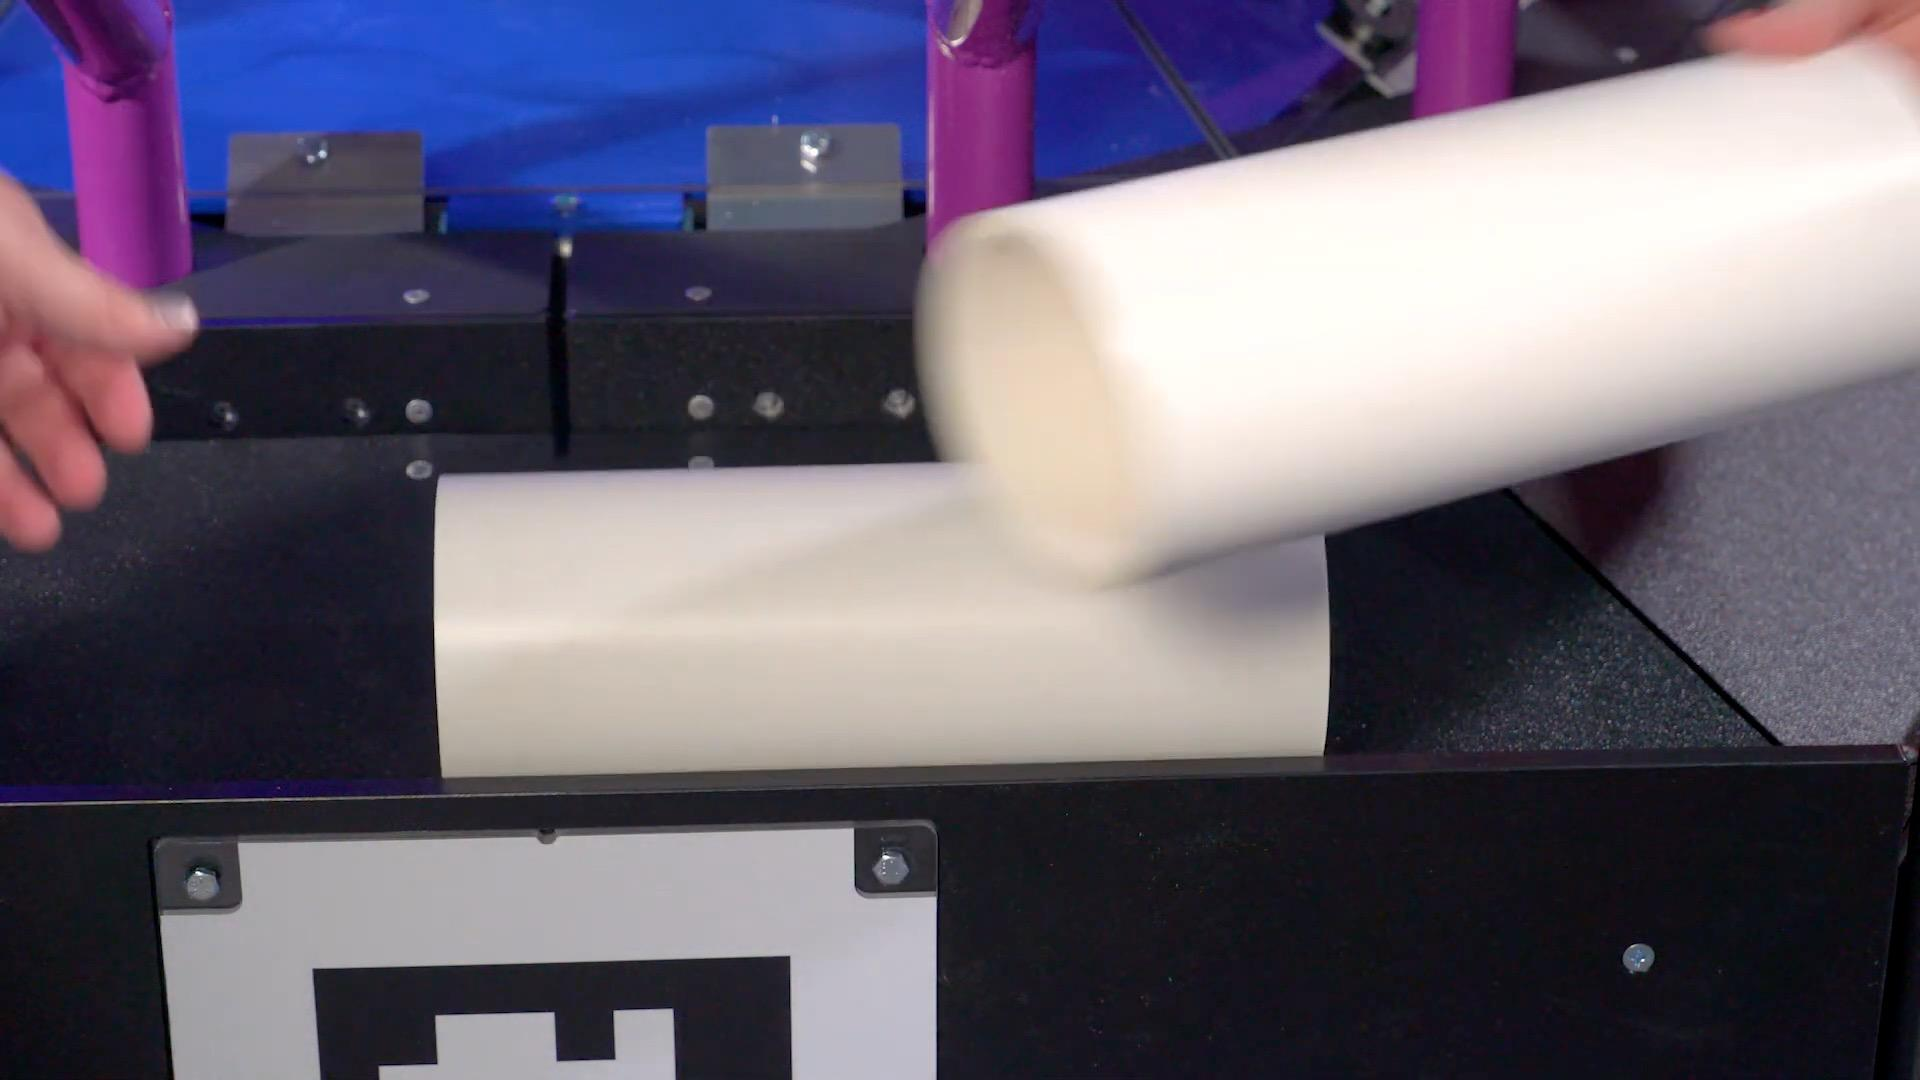CORAL: (911, 28, 1916, 592), (430, 458, 1335, 781)
